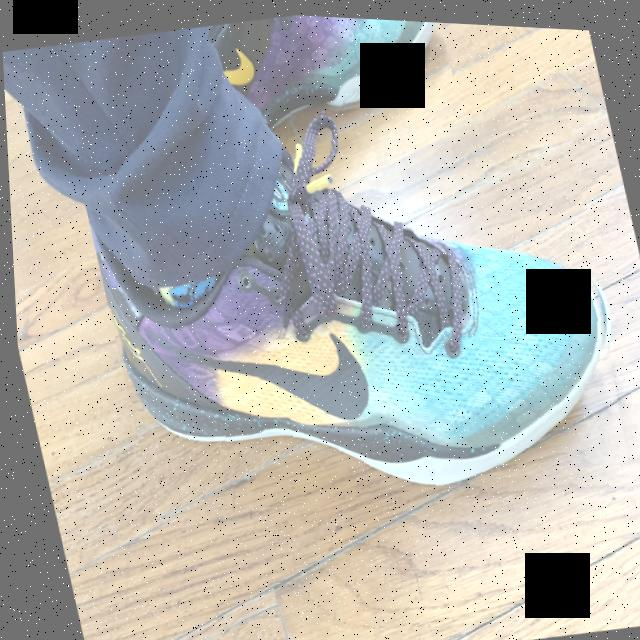shoe: (72, 84, 640, 539), (200, 8, 459, 136)
